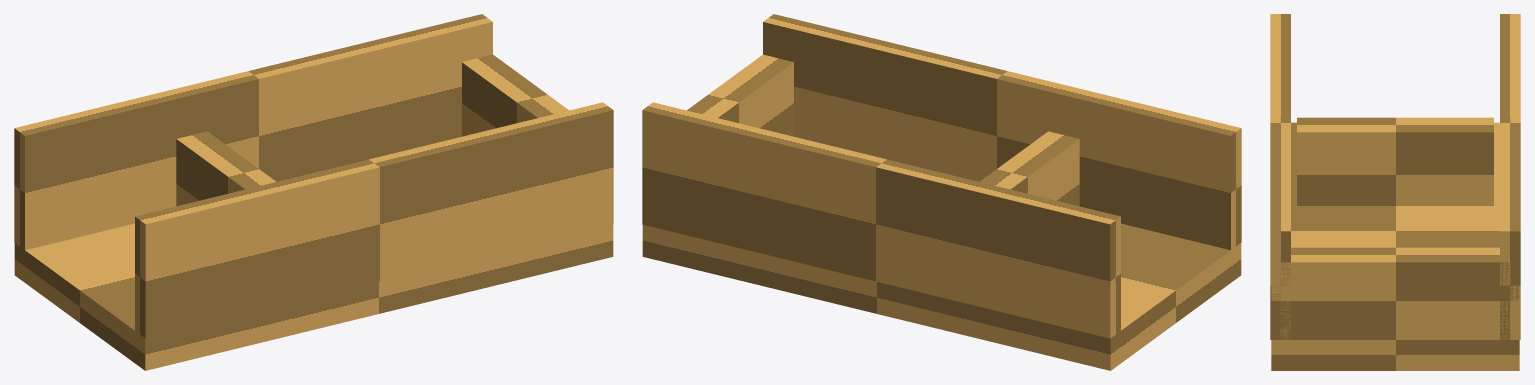
File: development-blender-body.glb
3 renders of one model, left to right at view 1: azimuth 30°, elevation 25°; view 2: azimuth 150°, elevation 25°; view 3: azimuth 270°, elevation 25°, orthographic. The views are drawn at different scales.
Parts seen in each view (by area): view 1: right shell mirrored, left shell, floor, nose, seat reference; view 2: left shell, right shell mirrored, floor, nose, seat reference; view 3: nose, seat reference, floor, left shell, right shell mirrored.
Boxes of the visible parts, box(x1,y1,x2,y2) form: right shell mirrored: box(135, 102, 613, 338); left shell: box(14, 14, 492, 250); floor: box(14, 223, 613, 370); nose: box(462, 54, 568, 136); seat reference: box(176, 131, 276, 206); left shell: box(642, 102, 1120, 338); right shell mirrored: box(763, 14, 1241, 250); floor: box(642, 223, 1241, 370); nose: box(687, 54, 793, 136); seat reference: box(979, 131, 1079, 206); nose: box(1271, 247, 1519, 339); seat reference: box(1297, 117, 1493, 205); floor: box(1271, 122, 1519, 370); left shell: box(1500, 14, 1520, 339); right shell mirrored: box(1270, 14, 1290, 339).
Size of the model in its own units: 3 by 0.9 by 1.46.
Materials: 1 (1 with a texture image).
